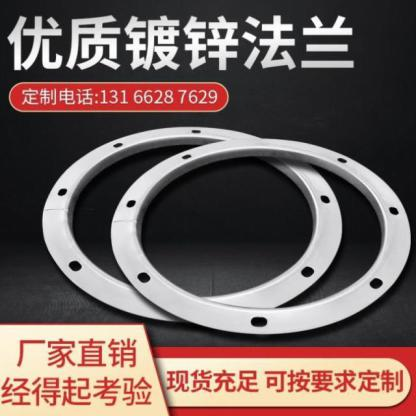FOD: (108, 129, 415, 340), (37, 122, 346, 325)
